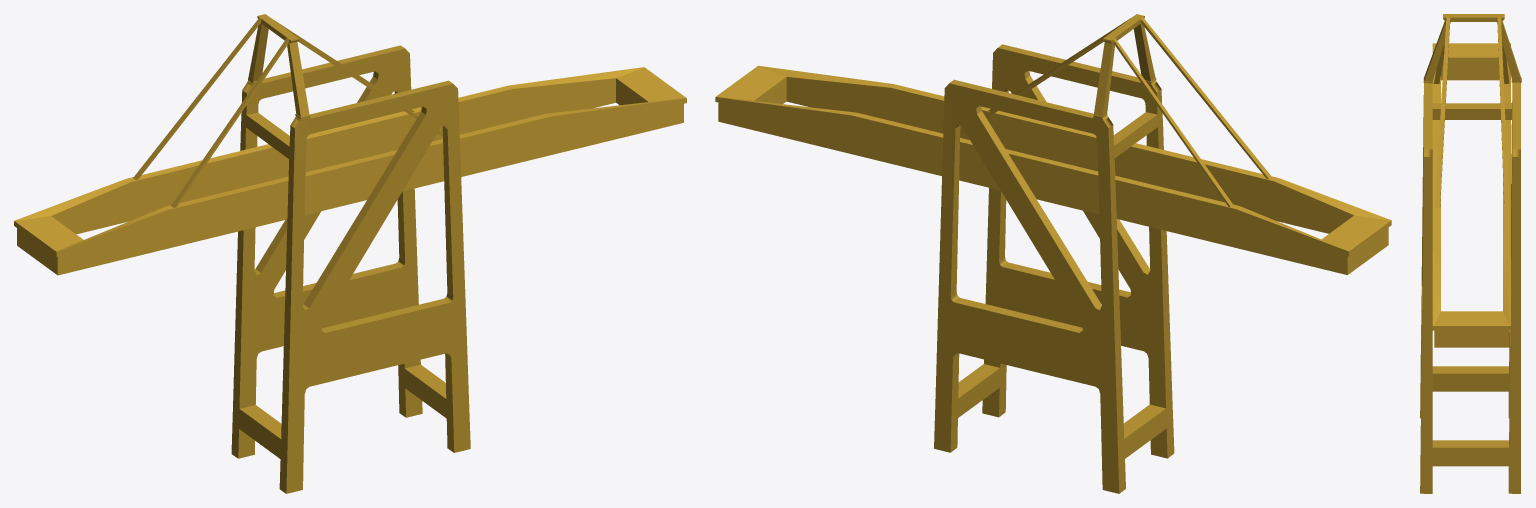
File: Prop_HCrane.fbx
3 views of the same model, side by side, from view 1: azimuth 30°, elevation 25°; view 2: azimuth 150°, elevation 25°; view 3: azimuth 270°, elevation 25° (orthographic). The views are drawn at different scales.
Parts seen in each view (by area): view 1: vertical_part_03, horizontal_part; view 2: vertical_part_03, horizontal_part; view 3: vertical_part_03, horizontal_part.
Boxes of the visible parts, left/top/right/bottom form: vertical_part_03: left=133, top=14, right=470, bottom=493; horizontal_part: left=14, top=67, right=686, bottom=275; vertical_part_03: left=934, top=14, right=1271, bottom=493; horizontal_part: left=715, top=65, right=1391, bottom=274; vertical_part_03: left=1420, top=14, right=1521, bottom=493; horizontal_part: left=1432, top=43, right=1510, bottom=347.
Bounding box in the file's own units: 63.71 × 42.55 × 9.68.
